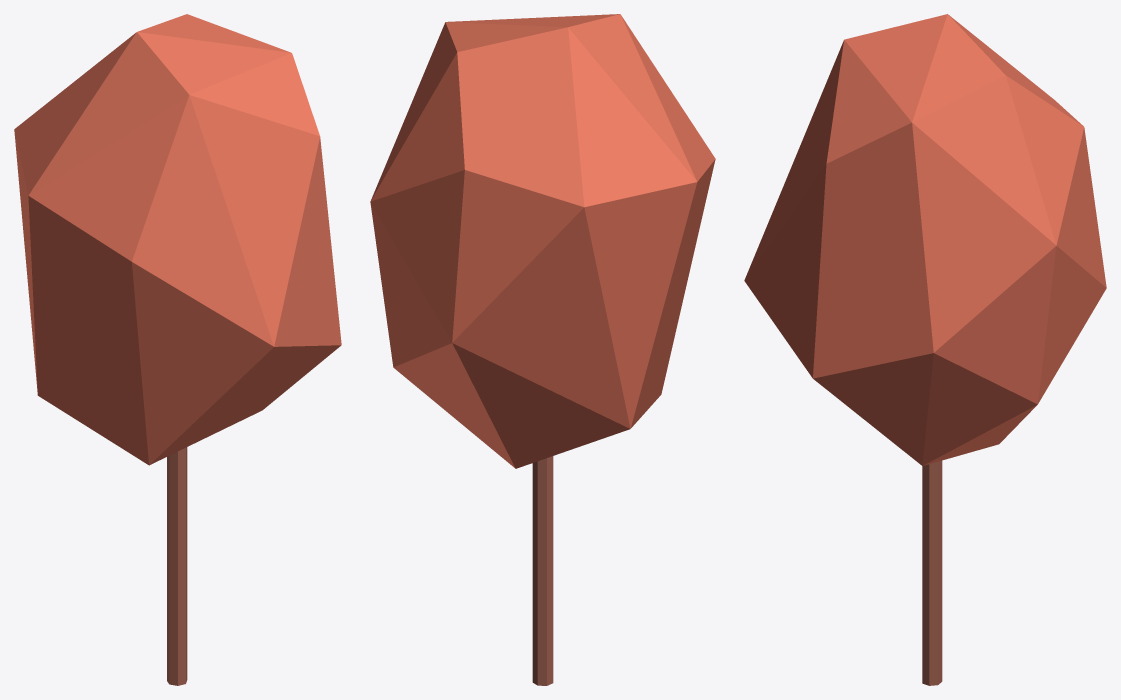
The model's file is tree_7.fbx.
3 renders of one model, left to right at view 1: azimuth 30°, elevation 25°; view 2: azimuth 150°, elevation 25°; view 3: azimuth 270°, elevation 25°, orthographic. The views are drawn at different scales.
Visible parts, largest first — view 1: Sphere.022; view 2: Sphere.022; view 3: Sphere.022.
Boxes of the visible parts, x1=… form: Sphere.022: x1=14, y1=14, x2=341, y2=685; Sphere.022: x1=370, y1=14, x2=715, y2=685; Sphere.022: x1=744, y1=14, x2=1106, y2=685.
Size of the model in its own units: 222 by 458 by 231.
